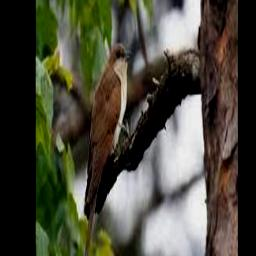Cuckoo: (81, 42, 132, 256)
